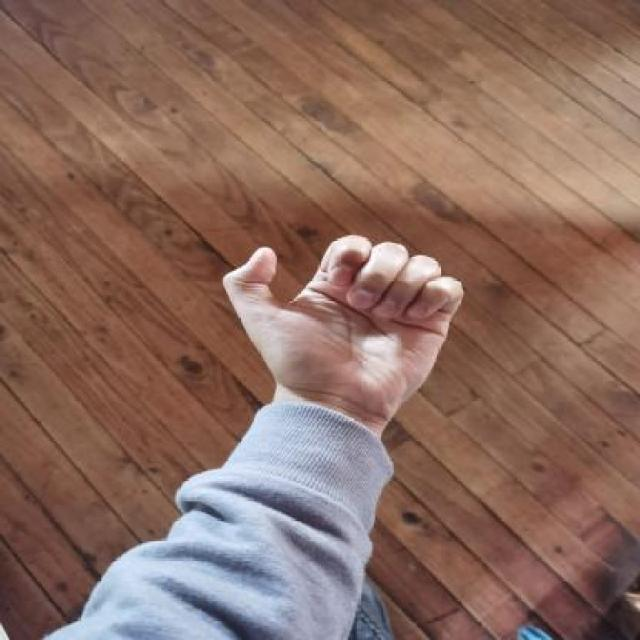E: (173, 214, 473, 428)
